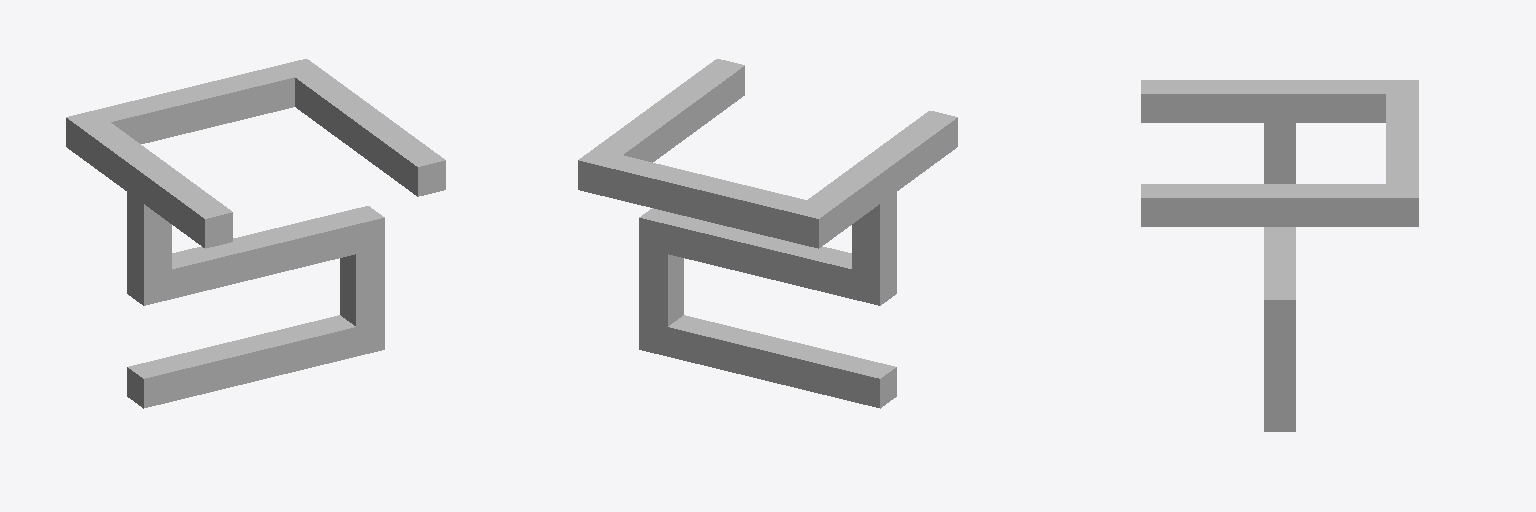
3 views of the same model, side by side, from view 1: azimuth 30°, elevation 25°; view 2: azimuth 150°, elevation 25°; view 3: azimuth 270°, elevation 25° (orthographic).
Parts seen in each view (by area): view 1: 뼈대.003_Cube.009; view 2: 뼈대.003_Cube.009; view 3: 뼈대.003_Cube.009.
Part boxes in pixels (x1,y1,x2,y2): 뼈대.003_Cube.009: (66, 59, 445, 408); 뼈대.003_Cube.009: (578, 59, 957, 408); 뼈대.003_Cube.009: (1141, 80, 1418, 431).
Size of the model in its own units: 3.4 by 3.16 by 3.4.